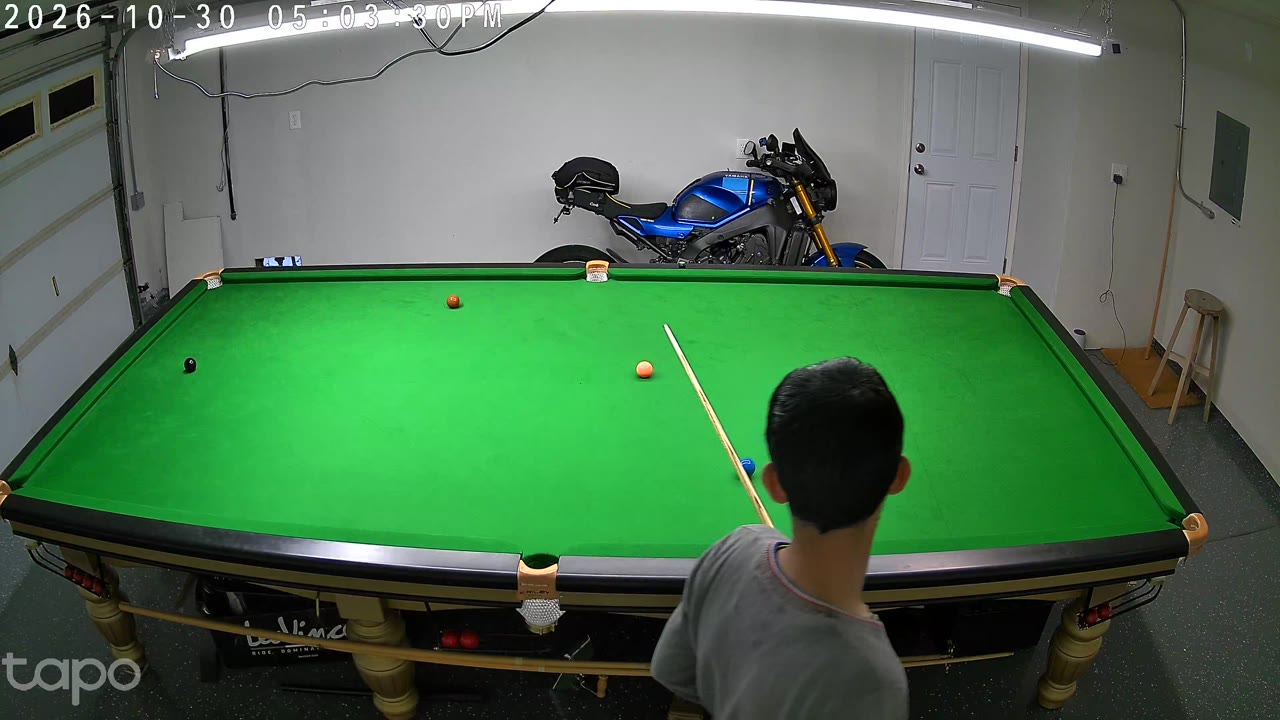black: (184, 356, 196, 376)
blue: (737, 463, 757, 476)
brown: (447, 294, 459, 310)
pink: (636, 360, 652, 380)
